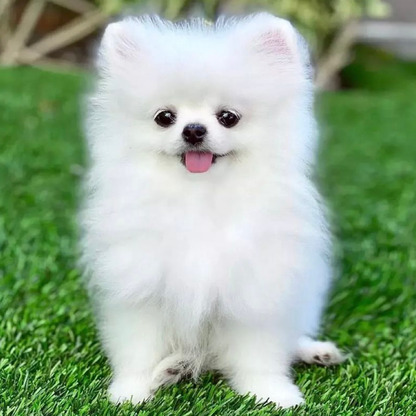Pomeranian: (77, 9, 365, 405)
